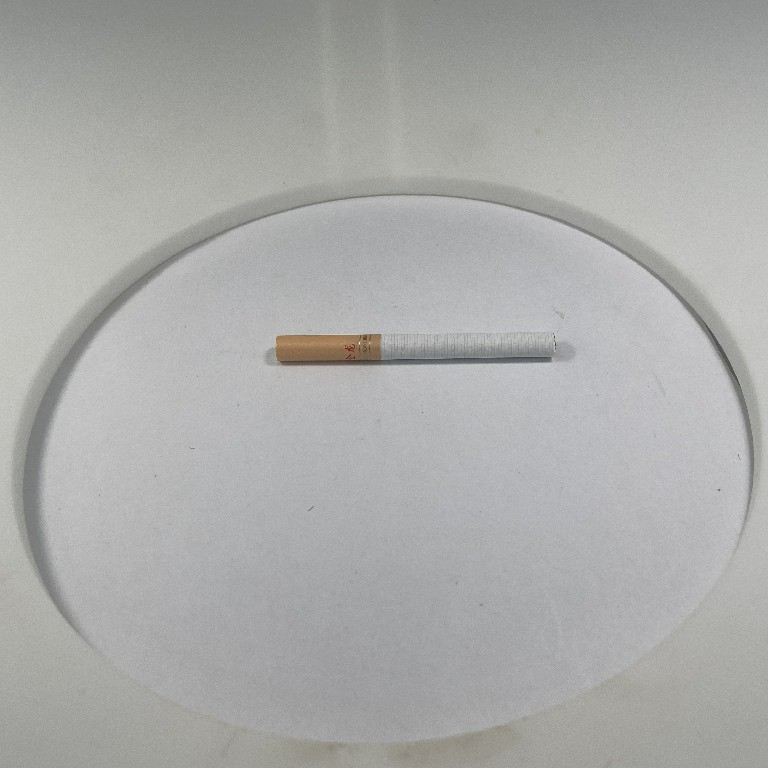cigarette: (271, 330, 564, 367)
